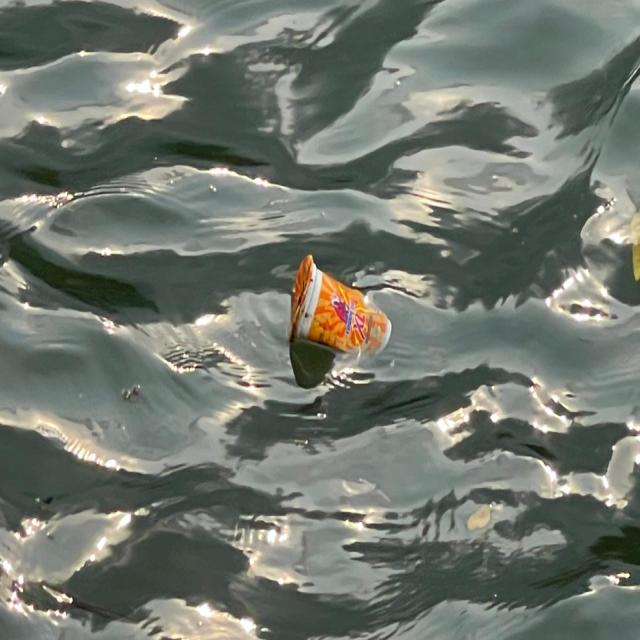Bungkus Minuman: (276, 244, 399, 372)
